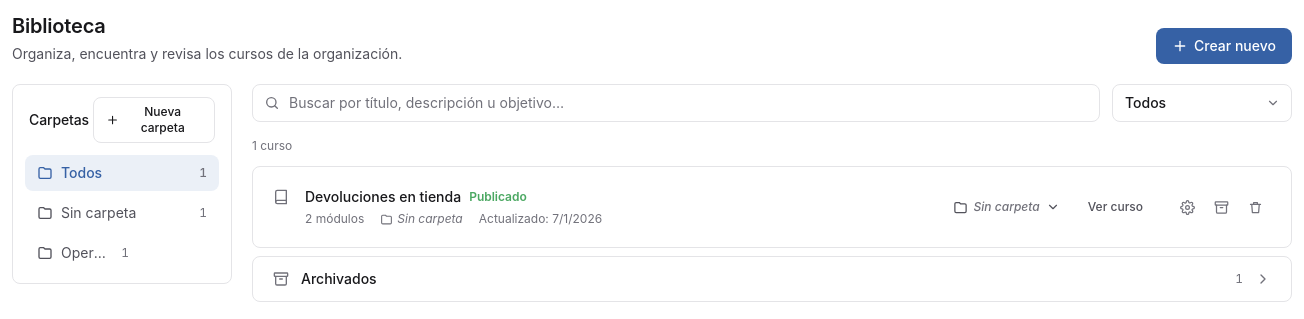
it: Content — the archive › shows them once you go in, and lets you come back out
Click the button "Archivados 1" at [339, 278], box x1=252 y1=256 x2=1292 y2=302
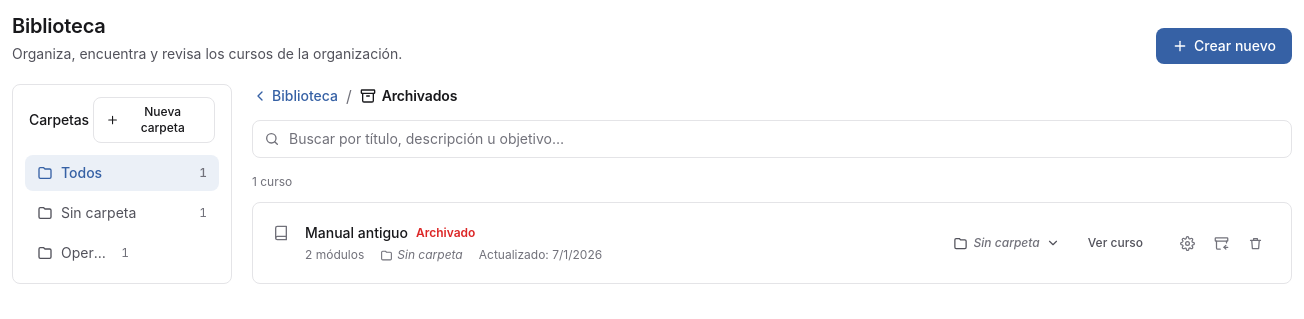
Check: the text "Manual antiguo" is shown, box x1=305 y1=223 x2=408 y2=243
Check: the text "Devoluciones en tienda" is gone
Click the button "Biblioteca" at [295, 96], box x1=252 y1=86 x2=338 y2=106
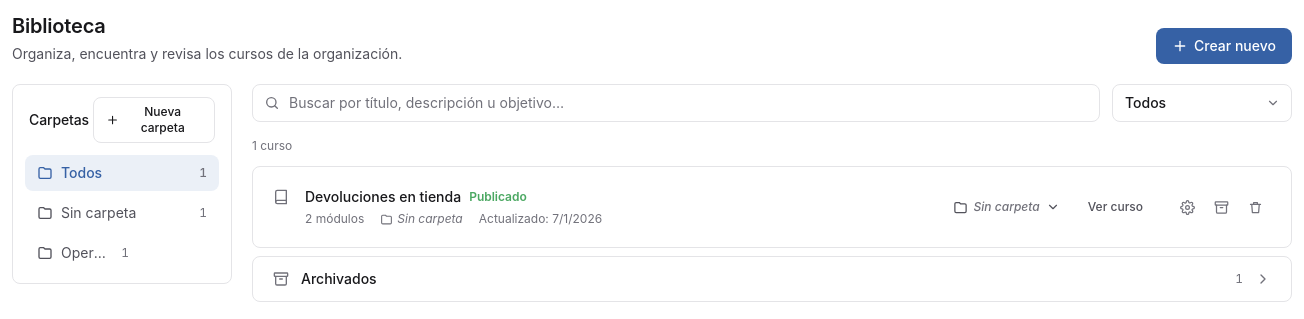
Check: the text "Devoluciones en tienda" is shown, box x1=305 y1=187 x2=461 y2=207
Check: the text "Manual antiguo" is gone
